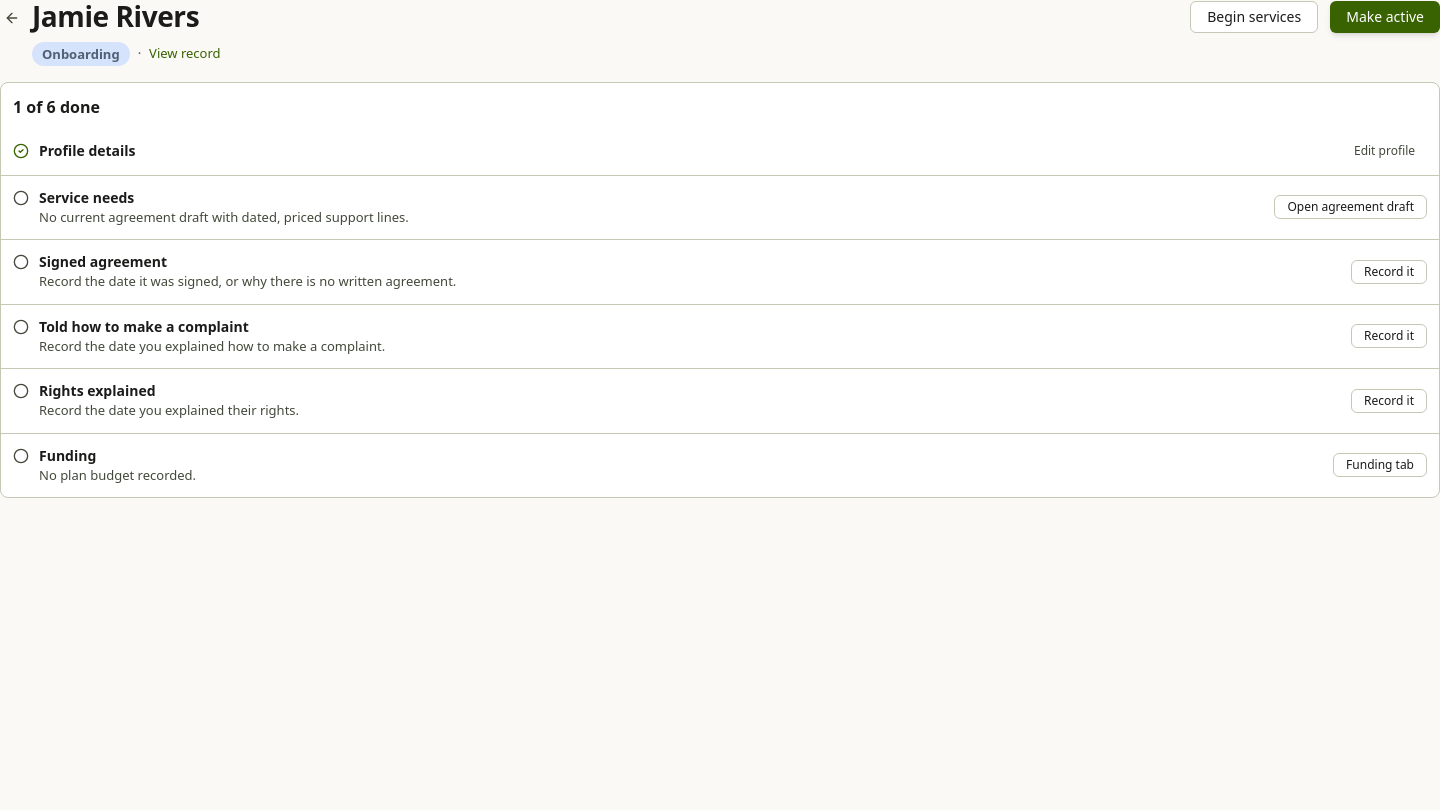
OnboardingDetailPage: the complaints and rights record › refuses a future date and a date before 1990 on the field, without sending
The width and height of the screenshot is (1440, 810).
Click the button "Record it" in the row of "Told how to make a complaint".
click(1389, 336)  # box x1=1351 y1=324 x2=1427 y2=348
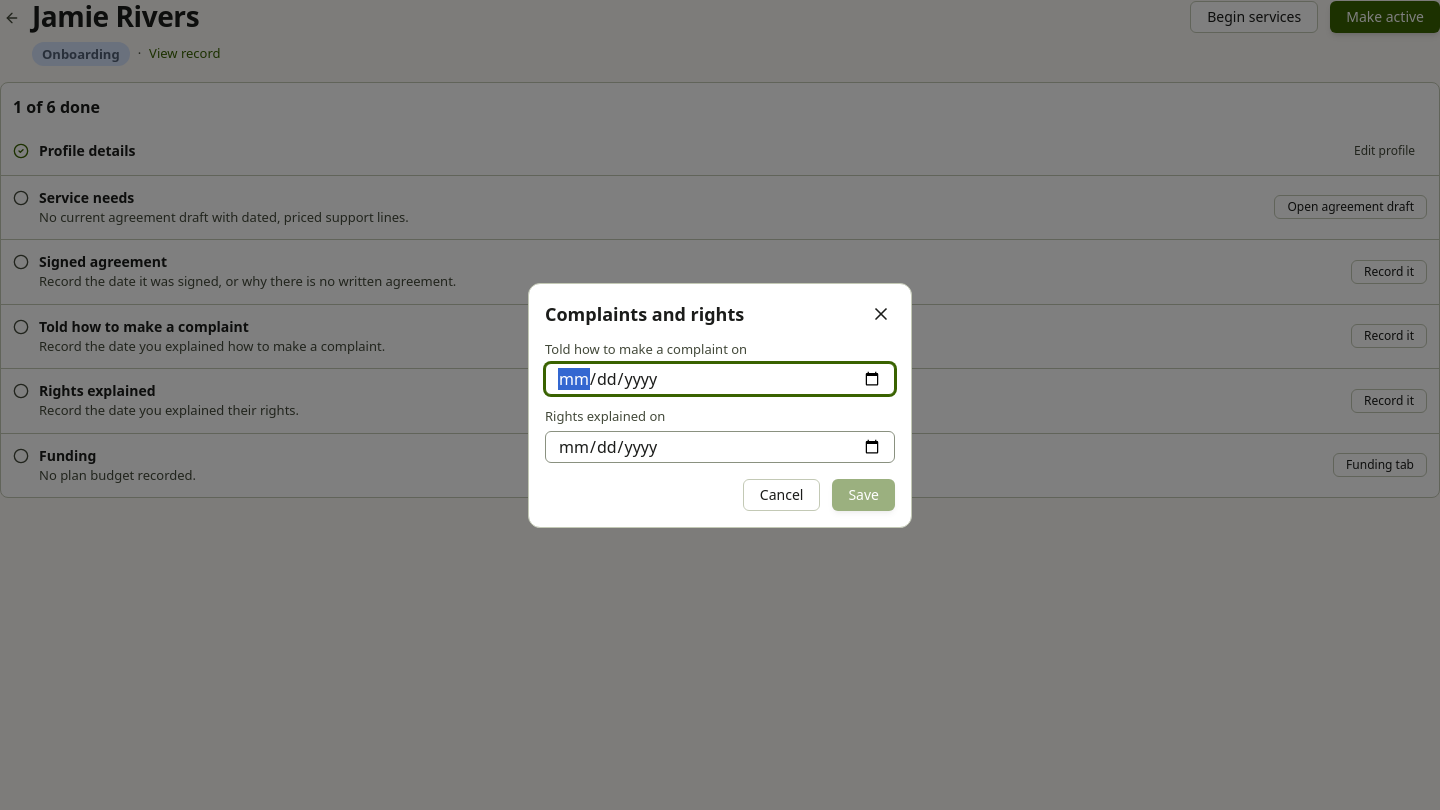
Type "2999-01-01" into the date field labelled "Told how to make a complaint on".
click(720, 379); type("2999-01-01")  # box x1=545 y1=363 x2=895 y2=395
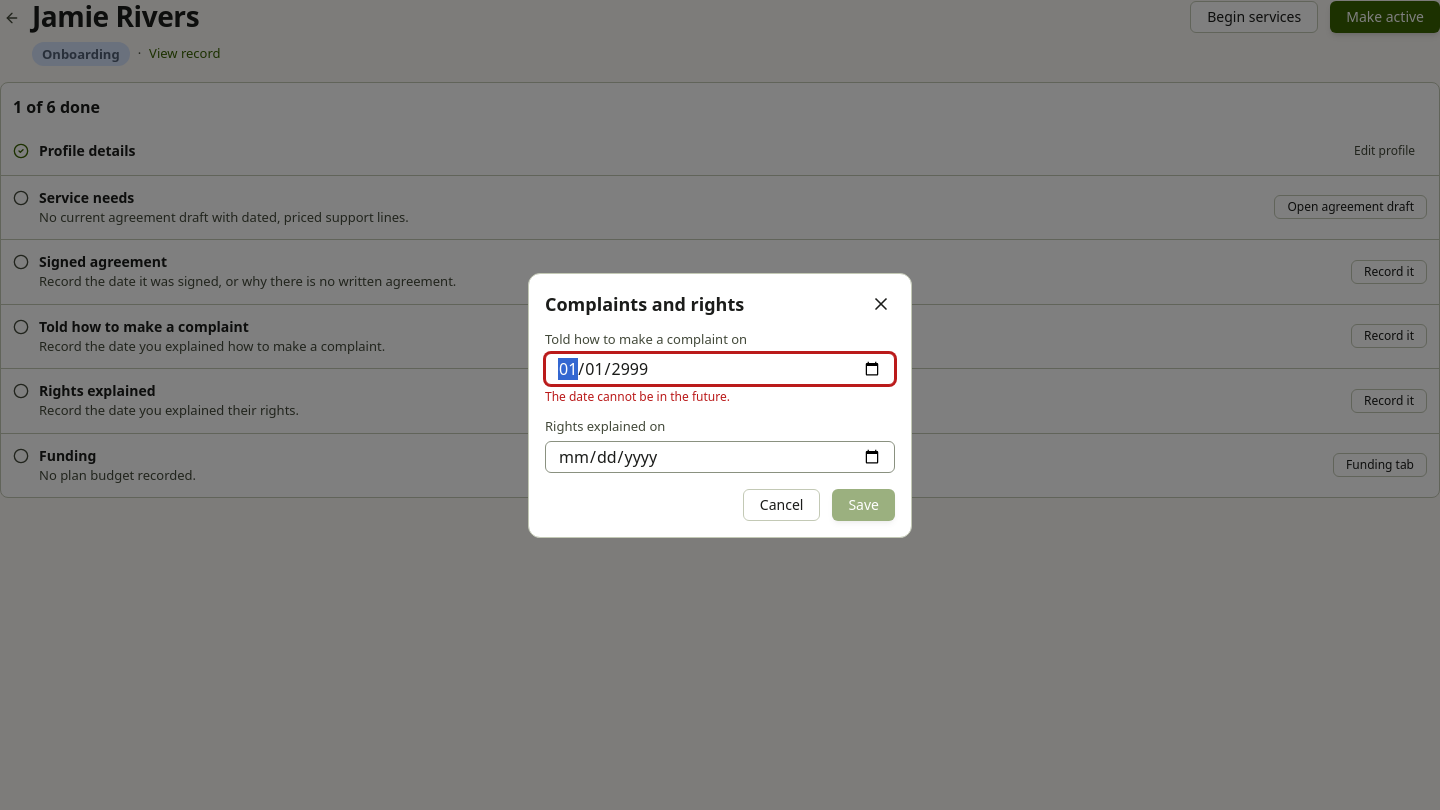
Check: the button "Save" is disabled, box x1=832 y1=488 x2=895 y2=520
Check: the text "The date cannot be in the future." is shown, box x1=545 y1=388 x2=730 y2=405
Clear the date field labelled "Told how to make a complaint on" at x=720, y=369, box x1=545 y1=353 x2=895 y2=385
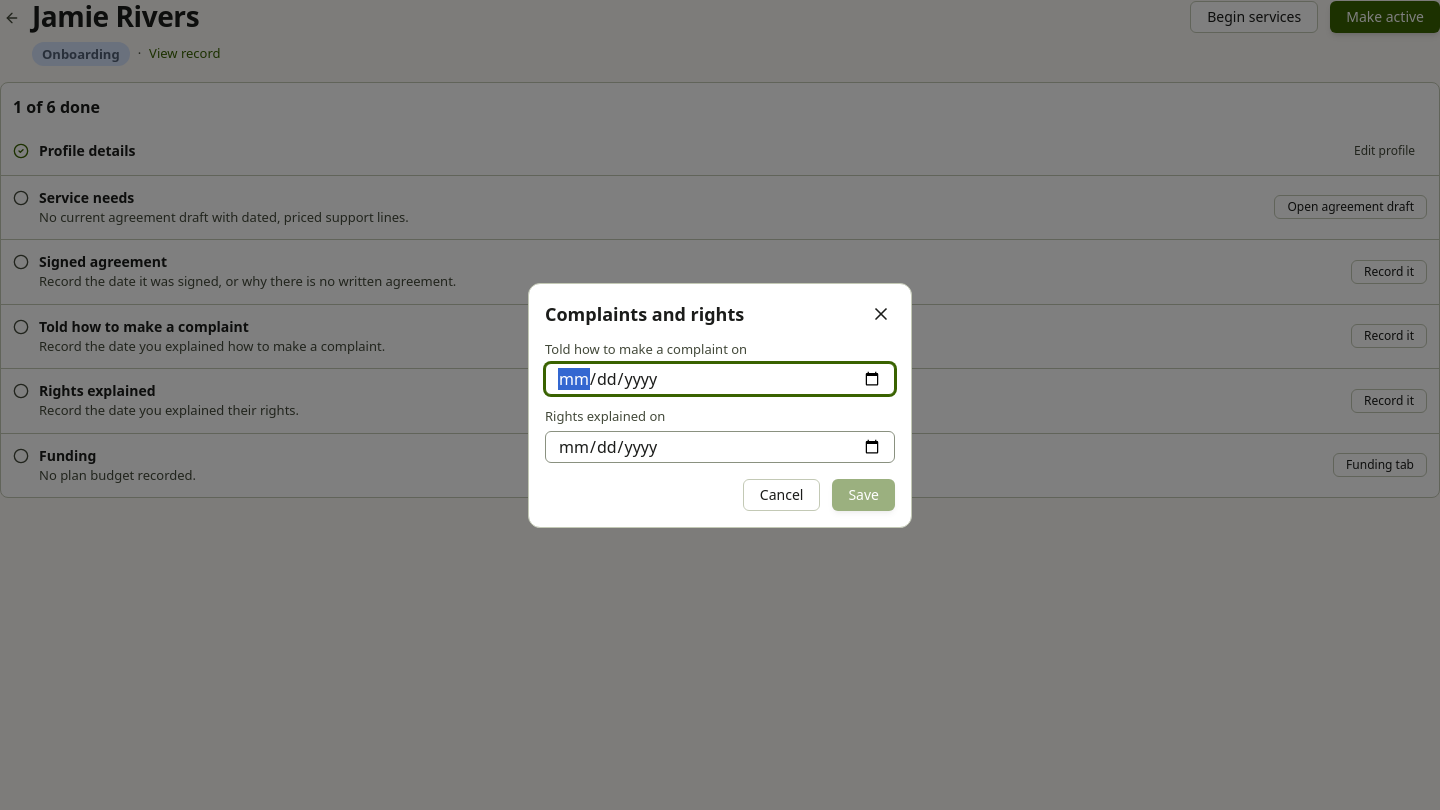
Type "1989-12-31" into the date field labelled "Told how to make a complaint on".
click(720, 379); type("1989-12-31")  # box x1=545 y1=363 x2=895 y2=395
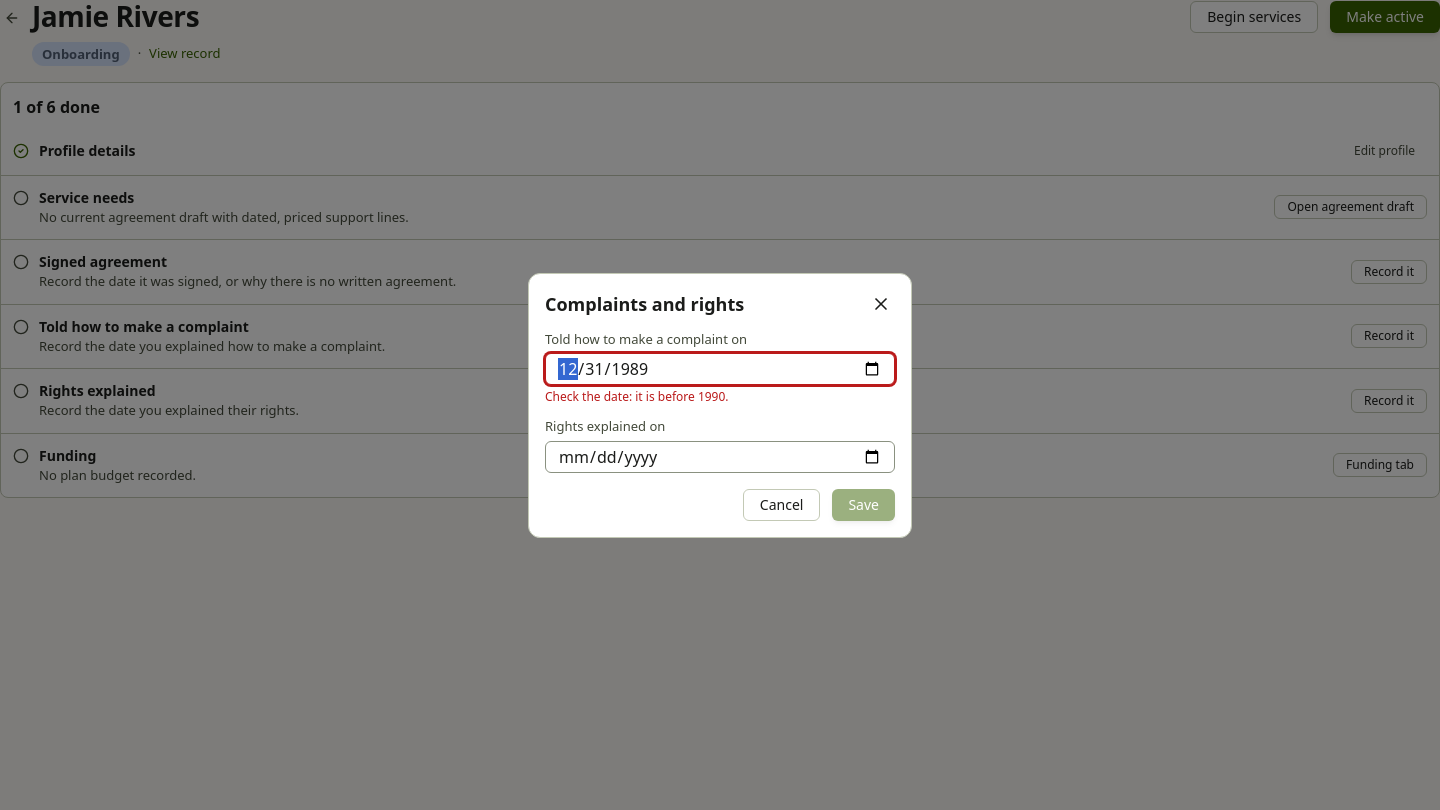
Check: the button "Save" is disabled, box x1=832 y1=488 x2=895 y2=520
Check: the text "Check the date: it is before 1990." is shown, box x1=545 y1=388 x2=729 y2=405
